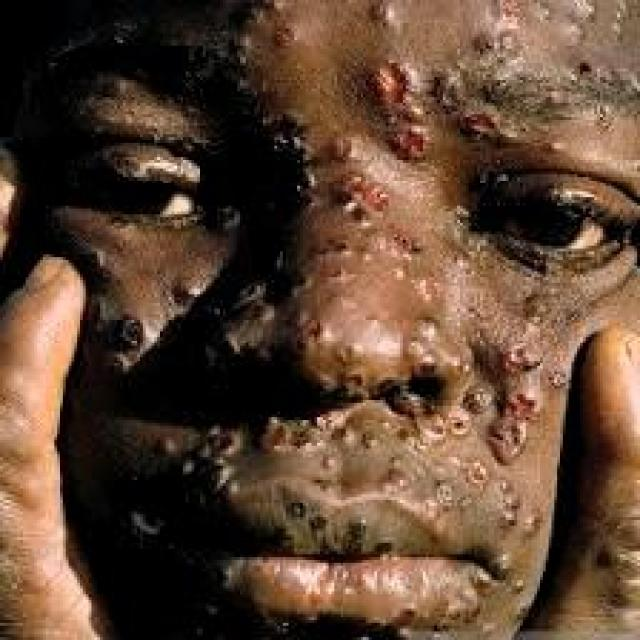monkeypox: (17, 0, 640, 629)
